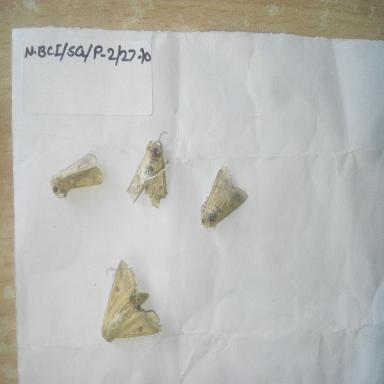abw: (98, 255, 165, 346), (122, 127, 177, 215), (195, 163, 251, 232), (46, 148, 109, 204)
